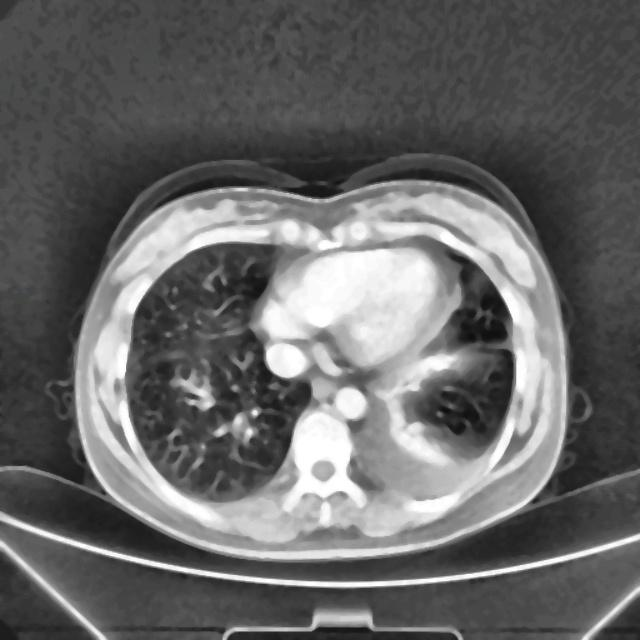covid: (73, 160, 570, 557)
